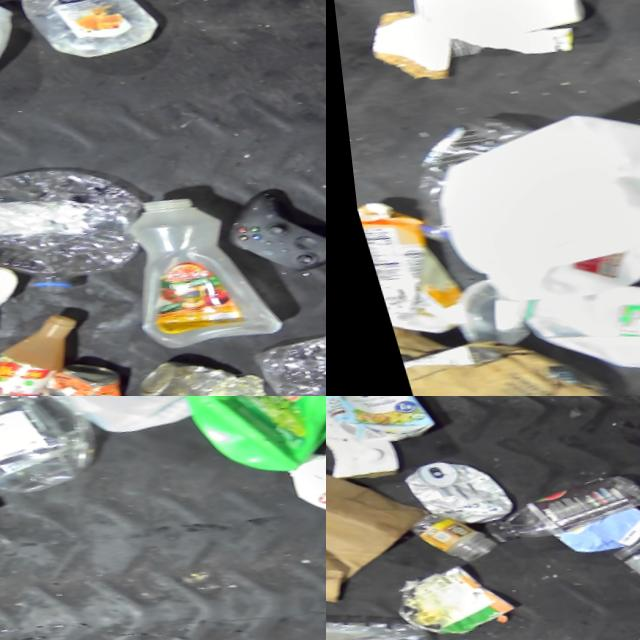can: (393, 442, 505, 530), (116, 334, 263, 396), (11, 338, 135, 396), (47, 377, 186, 396)
milk_jug: (414, 78, 640, 311), (14, 396, 212, 438), (269, 417, 326, 527)
non_white_jug: (153, 396, 326, 490)
plastic_bottle: (0, 136, 163, 314), (0, 396, 101, 510), (237, 289, 326, 396)
